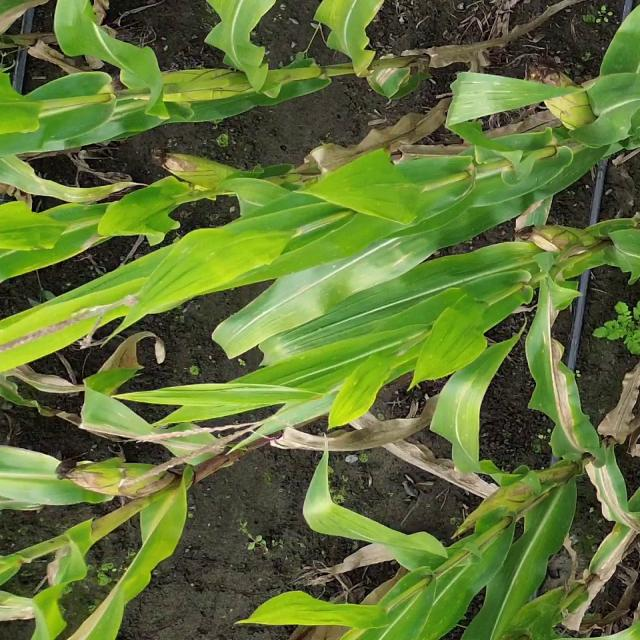gray-leaf-spot: (450, 76, 558, 126), (328, 238, 422, 291)
northern-leaf-blight: (542, 302, 640, 540), (14, 165, 143, 210), (43, 544, 93, 598), (376, 54, 414, 96)
southern-leaf-blight: (391, 523, 533, 639), (274, 323, 354, 378), (602, 109, 640, 158)
